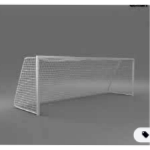goals: (13, 52, 138, 117)
